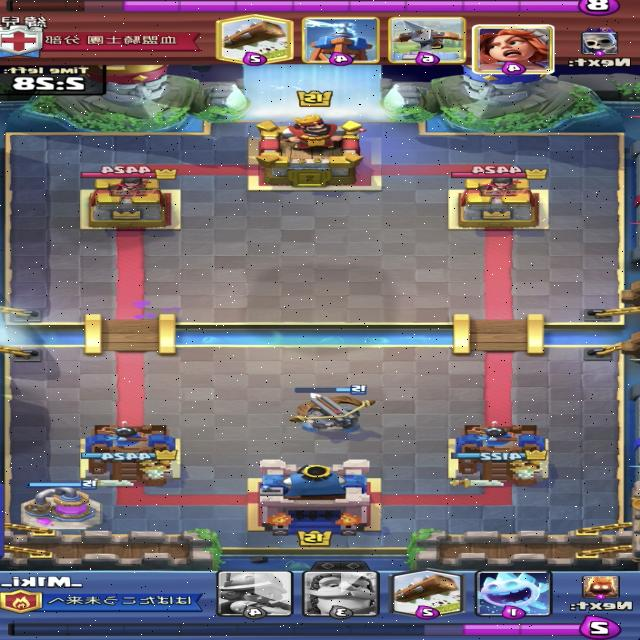Player-ElixirPump: (18, 479, 104, 531)
Player-XBow: (287, 385, 376, 432)
